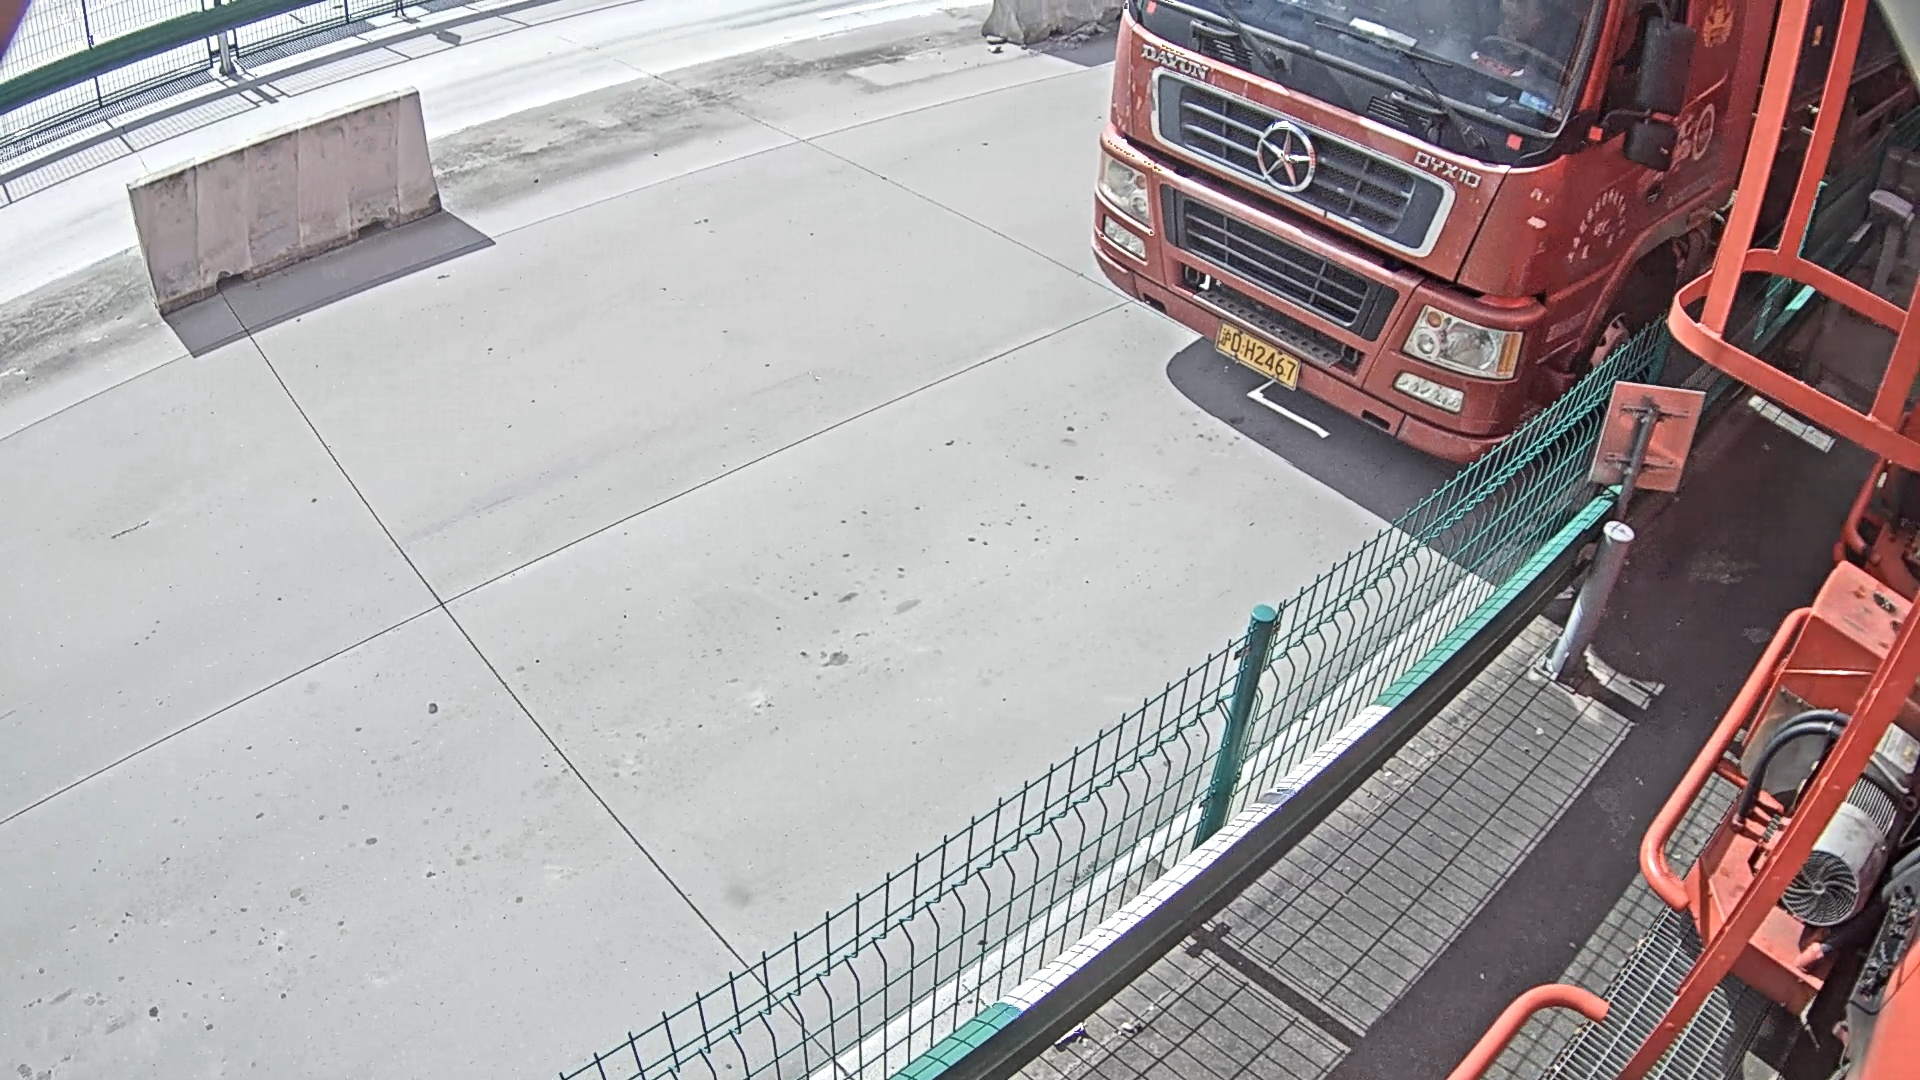head: (1086, 1, 1776, 460)
plate: (1219, 319, 1303, 385)
